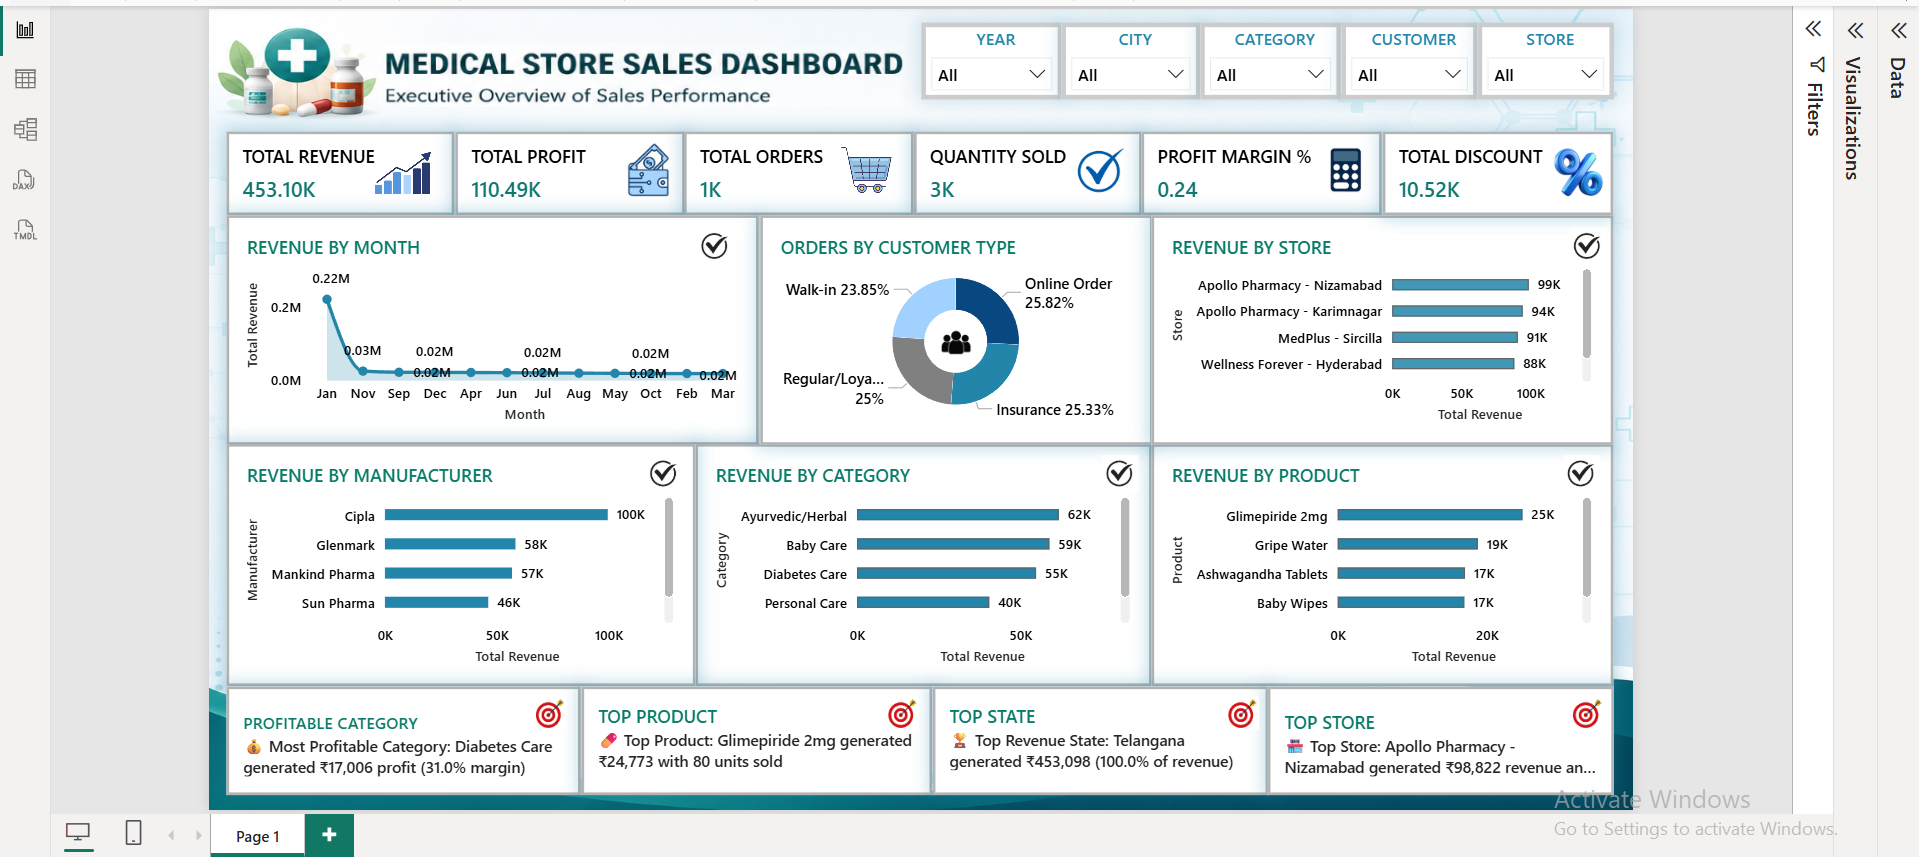

This screenshot's page, from the dashboard's own definition file:
{"tool":"powerbi","page":{"name":"Page 1","canvas":[1280,720],"ordinal":0},"visuals":[{"type":"image","box":[152.5,21.2,471.2,76.2],"z":0},{"type":"shape","box":[640,12.5,622.5,68.8],"z":1000},{"type":"slicer","title":"YEAR","fields":{"Values":["DateTable.Year"]},"box":[640,12.5,126.2,68.8],"z":2000},{"type":"slicer","title":"CITY","fields":{"Values":["Sales.City"]},"box":[766.2,12.5,125,68.8],"z":3000},{"type":"slicer","title":"CATEGORY","fields":{"Values":["Sales.Category"]},"box":[891.2,12.5,126.2,68.8],"z":4000},{"type":"slicer","title":"CUSTOMER","fields":{"Values":["Sales.CustomerType"]},"box":[1017.5,12.5,122.5,68.8],"z":5000},{"type":"slicer","title":"STORE","fields":{"Values":["Sales.Store"]},"box":[1140,12.5,122.5,68.8],"z":6000},{"type":"cardVisual","fields":{"Data":["DateTable.Total Revenue"]},"box":[16.2,110,205,75],"z":7000},{"type":"cardVisual","fields":{"Data":["Sales.Total Profit"]},"box":[221.2,110,206.2,75],"z":8000},{"type":"cardVisual","fields":{"Data":["Sales.Total Orders"]},"box":[427.5,110,206.2,75],"z":9000},{"type":"cardVisual","fields":{"Data":["Sales.Quantity Sold"]},"box":[633.8,110,205,75],"z":10000},{"type":"cardVisual","fields":{"Data":["Sales.Profit Margin %"]},"box":[838.8,110,216.2,75],"z":11000},{"type":"lineChart","title":"REVENUE BY MONTH","fields":{"Category":["DateTable.Month"],"Y":["DateTable.Total Revenue"]},"box":[16.2,185,478.8,206.2],"z":12000},{"type":"clusteredBarChart","title":"REVENUE BY CATEGORY","fields":{"Category":["Sales.Category"],"Y":["DateTable.Total Revenue"]},"box":[437.5,391.2,410,217.5],"z":13000},{"type":"clusteredBarChart","title":"REVENUE BY PRODUCT","fields":{"Y":["DateTable.Total Revenue"],"Category":["Sales.Product"]},"box":[847.5,391.2,415,217.5],"z":14000},{"type":"clusteredBarChart","title":"REVENUE BY MANUFACTURER","fields":{"Y":["DateTable.Total Revenue"],"Category":["Sales.Manufacturer"]},"box":[16.2,391.2,421.2,217.5],"z":15000},{"type":"donutChart","title":"ORDERS BY CUSTOMER TYPE","fields":{"Y":["Sales.Total Orders"],"Category":["Sales.CustomerType"]},"box":[495,185,352.5,206.2],"z":15001},{"type":"clusteredBarChart","title":"REVENUE BY STORE ","fields":{"Y":["DateTable.Total Revenue"],"Category":["Sales.Store"]},"box":[847.5,185,415,206.2],"z":15002},{"type":"cardVisual","fields":{"Data":["Sales.Live Insight - Profitable Category"]},"box":[16.2,608.8,318.8,97.5],"z":15003},{"type":"cardVisual","fields":{"Data":["Sales.Live Insight - Top Product"]},"box":[335,608.8,315,97.5],"z":15004},{"type":"cardVisual","fields":{"Data":["Sales.Live Insight - Top State"]},"box":[650,608.8,301.2,97.5],"z":15005},{"type":"cardVisual","fields":{"Data":["Sales.Live Insight - Top Store"]},"box":[951.2,608.8,311.2,97.5],"z":15006},{"type":"cardVisual","fields":{"Data":["Sales.Total Discount"]},"box":[1055,110,207.5,75],"z":15007},{"type":"image","box":[287.5,617.5,37.5,30],"z":15008},{"type":"image","box":[605,617.5,37.5,30],"z":15009},{"type":"image","box":[910,617.5,37.5,30],"z":15010},{"type":"image","box":[1216.2,617.5,46.2,30],"z":15011},{"type":"image","box":[138.8,116.2,72.5,61.2],"z":15012},{"type":"image","box":[361.2,120,66.2,48.8],"z":15013},{"type":"image","box":[552.5,112.5,81.2,65],"z":15014},{"type":"image","box":[775,121.2,52.5,47.5],"z":15015},{"type":"image","box":[986.2,102.5,70,85],"z":15016},{"type":"image","box":[1198.8,112.5,63.8,68.8],"z":15017},{"type":"image","box":[653.8,280,35,40],"z":15018},{"type":"image","box":[437.5,196.2,36.2,32.5],"z":15019},{"type":"image","box":[391.2,401.2,36.2,32.5],"z":15020},{"type":"image","box":[801.2,401.2,36.2,32.5],"z":15021},{"type":"image","box":[1221.2,196.2,36.2,32.5],"z":15022},{"type":"image","box":[1216.2,401.2,36.2,32.5],"z":15023}]}

Visuals, with their boxes on the page's 1280x720 design canvas (x1, y1, x2, y2). These are canvas units, not pixel positions in the 1919x857 screenshot, which may show the page scaled, cropped or inside an application window:
image: 152,21,624,97
shape: 640,12,1262,81
"YEAR" slicer: 640,12,766,81
"CITY" slicer: 766,12,891,81
"CATEGORY" slicer: 891,12,1017,81
"CUSTOMER" slicer: 1018,12,1140,81
"STORE" slicer: 1140,12,1262,81
cardVisual - DateTable.Total Revenue: 16,110,221,185
cardVisual - Sales.Total Profit: 221,110,427,185
cardVisual - Sales.Total Orders: 428,110,634,185
cardVisual - Sales.Quantity Sold: 634,110,839,185
cardVisual - Sales.Profit Margin %: 839,110,1055,185
"REVENUE BY MONTH" lineChart: 16,185,495,391
"REVENUE BY CATEGORY" clusteredBarChart: 438,391,848,609
"REVENUE BY PRODUCT" clusteredBarChart: 848,391,1262,609
"REVENUE BY MANUFACTURER" clusteredBarChart: 16,391,437,609
"ORDERS BY CUSTOMER TYPE" donutChart: 495,185,848,391
"REVENUE BY STORE " clusteredBarChart: 848,185,1262,391
cardVisual - Sales.Live Insight - Profitable Category: 16,609,335,706
cardVisual - Sales.Live Insight - Top Product: 335,609,650,706
cardVisual - Sales.Live Insight - Top State: 650,609,951,706
cardVisual - Sales.Live Insight - Top Store: 951,609,1262,706
cardVisual - Sales.Total Discount: 1055,110,1262,185
image: 288,618,325,648
image: 605,618,642,648
image: 910,618,948,648
image: 1216,618,1262,648
image: 139,116,211,177
image: 361,120,427,169
image: 552,112,634,178
image: 775,121,828,169
image: 986,102,1056,188
image: 1199,112,1263,181
image: 654,280,689,320
image: 438,196,474,229
image: 391,401,427,434
image: 801,401,837,434
image: 1221,196,1257,229
image: 1216,401,1252,434
